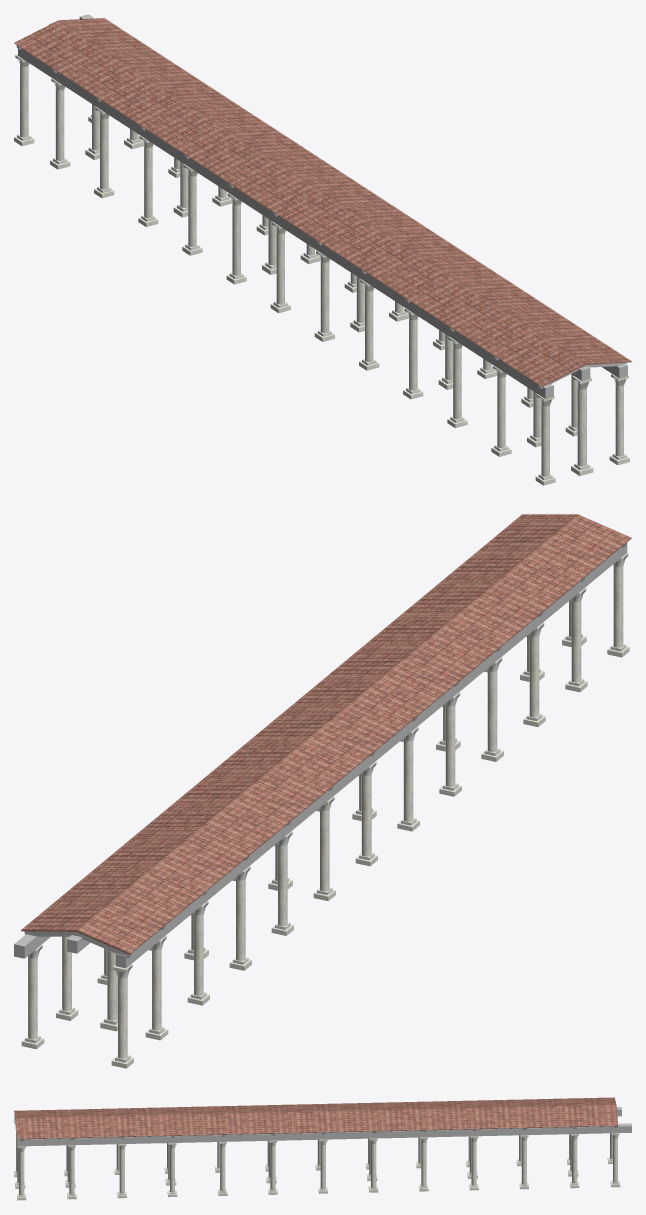
Rendered from wood05.fbx.
The picture shows the model from 3 angles, top to bottom: view 1: azimuth 30°, elevation 25°; view 2: azimuth 150°, elevation 25°; view 3: azimuth 270°, elevation 25°; orthographic projection. The views are drawn at different scales.
Visible parts, largest first — view 1: rooftiles_4, wood26_140, white_marble_310, white_marble_351, white_marble_321, white_marble_312, white_marble_308, white_marble_315, white_marble_371, white_marble_341, white_marble_335, white_marble_331 (+5 smaller); view 2: rooftiles_4, wood26_140, white_marble_361, white_marble_355, white_marble_308, white_marble_371, white_marble_365, white_marble_351, white_marble_345, white_marble_315, white_marble_331, white_marble_325 (+4 smaller); view 3: rooftiles_4, wood26_114, white_marble_343, white_marble_339, white_marble_363, white_marble_349, white_marble_329, white_marble_323, white_marble_312, white_marble_333, white_marble_319, white_marble_369 (+3 smaller).
Part boxes in pixels (x1,y1,x2,y2): rooftiles_4: (14,18,631,386); wood26_140: (18,48,553,398); white_marble_310: (572,376,591,466); white_marble_351: (316,250,330,333); white_marble_321: (51,78,65,160); white_marble_312: (611,374,628,456); white_marble_308: (536,394,554,476); white_marble_315: (15,54,29,137); white_marble_371: (492,365,506,448); white_marble_341: (227,193,241,275); white_marble_335: (183,164,197,247); white_marble_331: (139,135,153,218); rooftiles_4: (21,514,631,954); wood26_140: (115,542,627,968); white_marble_361: (487,657,502,752); white_marble_355: (445,692,460,786); white_marble_308: (613,553,628,647); white_marble_371: (571,588,586,682); white_marble_365: (529,622,544,717); white_marble_351: (403,727,418,821); white_marble_345: (361,762,376,856); white_marble_315: (112,964,132,1058); white_marble_331: (235,866,250,960); white_marble_325: (193,901,208,995); rooftiles_4: (14,1097,618,1139); wood26_114: (17,1123,631,1146); white_marble_343: (319,1139,327,1188); white_marble_339: (369,1138,377,1187); white_marble_363: (118,1144,126,1193); white_marble_349: (269,1140,277,1190); white_marble_329: (470,1136,478,1185); white_marble_323: (520,1135,528,1184); white_marble_312: (17,1146,25,1195); white_marble_333: (420,1137,427,1186); white_marble_319: (570,1134,578,1183); white_marble_369: (68,1145,75,1194).
Size of the model in its own units: 401 by 309 by 2520.
